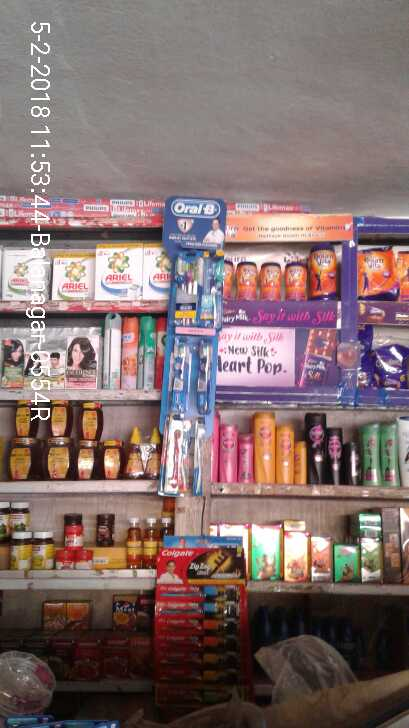home: (94, 242, 144, 302), (52, 250, 97, 300)
pharmacy: (172, 337, 190, 412), (197, 336, 212, 413)
